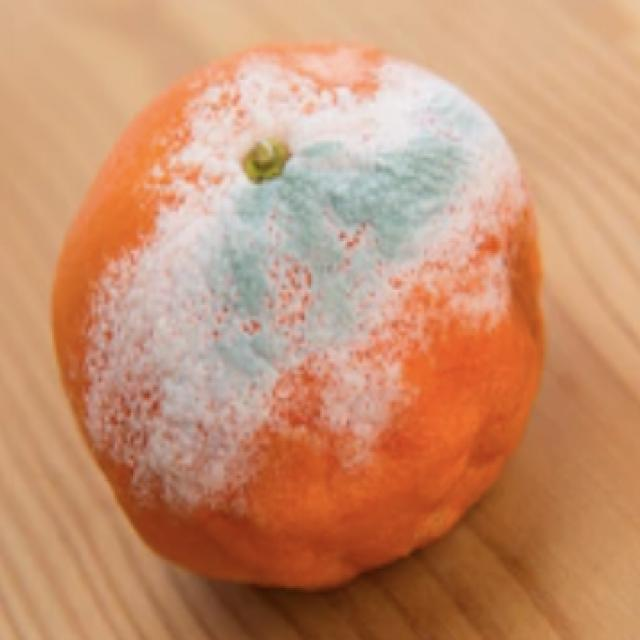rotten-orange: (57, 45, 547, 593)
